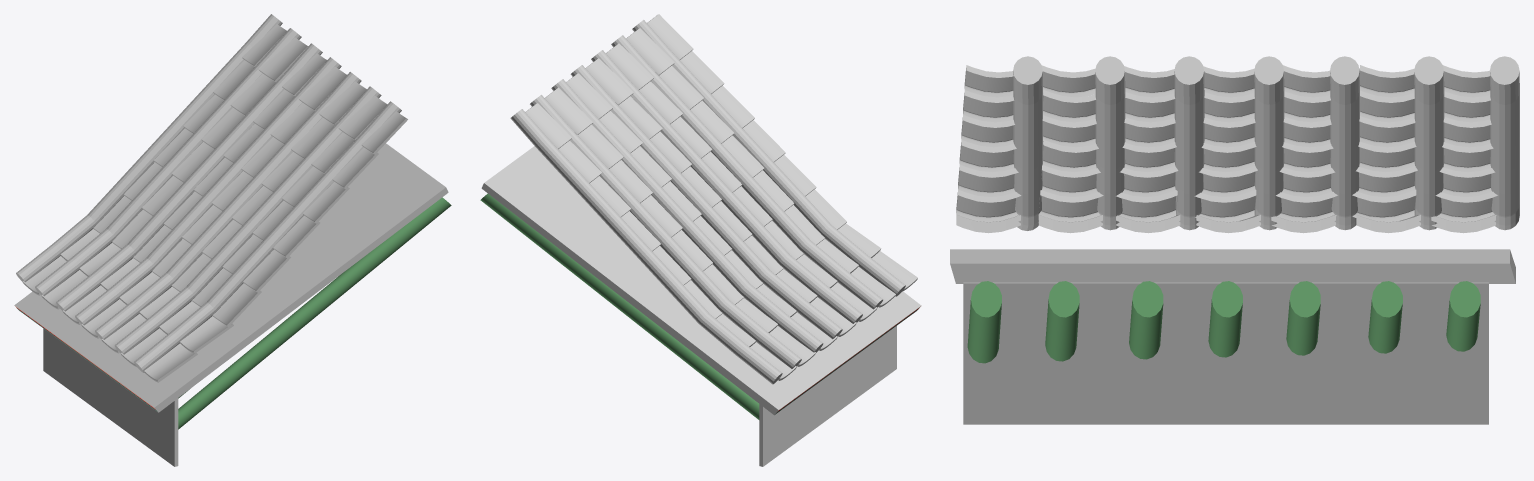
File: SM_Roof_20.fbx
3 renders of one model, left to right at view 1: azimuth 30°, elevation 25°; view 2: azimuth 150°, elevation 25°; view 3: azimuth 270°, elevation 25°, orthographic. The views are drawn at different scales.
Visible parts, largest first — view 1: SM_Roof_20_LOD0; view 2: SM_Roof_20_LOD0; view 3: SM_Roof_20_LOD0.
Boxes of the visible parts, x1=… form: SM_Roof_20_LOD0: x1=14, y1=14, x2=451, y2=466; SM_Roof_20_LOD0: x1=480, y1=14, x2=921, y2=466; SM_Roof_20_LOD0: x1=950, y1=56, x2=1519, y2=424.
Size of the model in its own units: 559 by 453 by 520.
